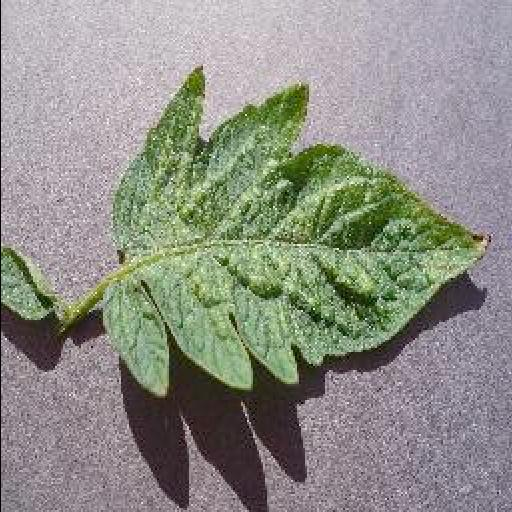disease_tomato: (102, 68, 492, 398)
